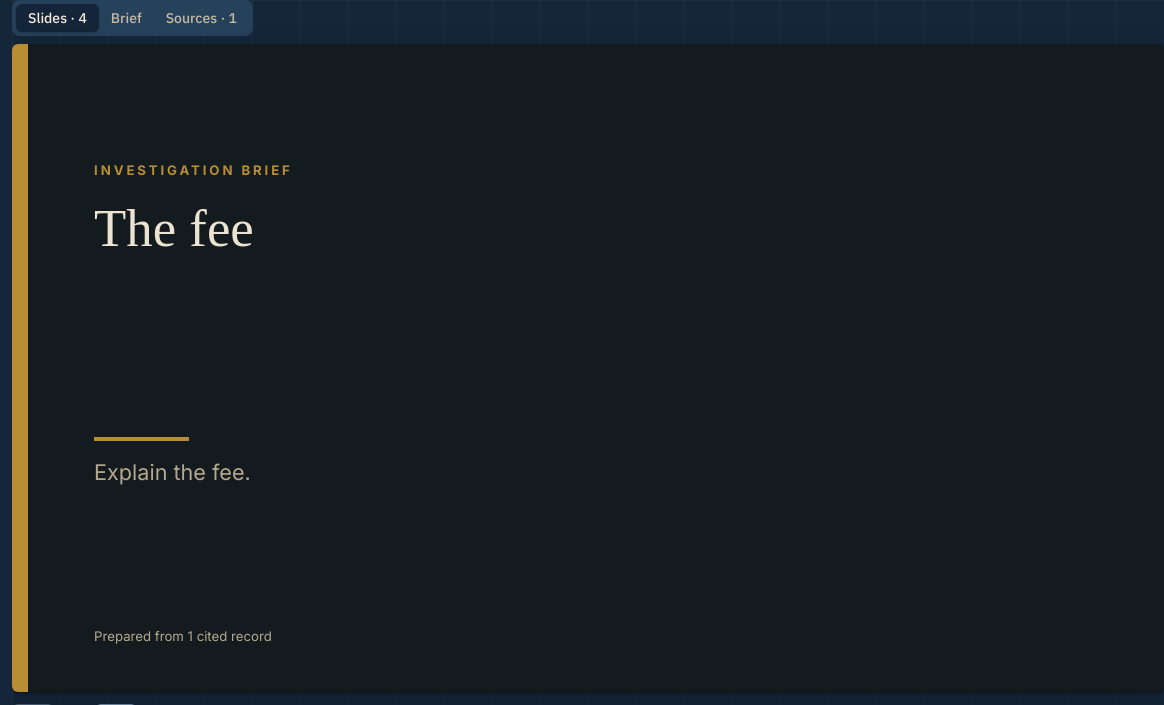
Test: DraftPreview › renders the brief with the takeaway, every paragraph, citations, and open questions
What coordinates should you click on to do the following:
click the tab "Brief"
I would click on:
 (126, 18)
Its box is [99, 4, 154, 32].
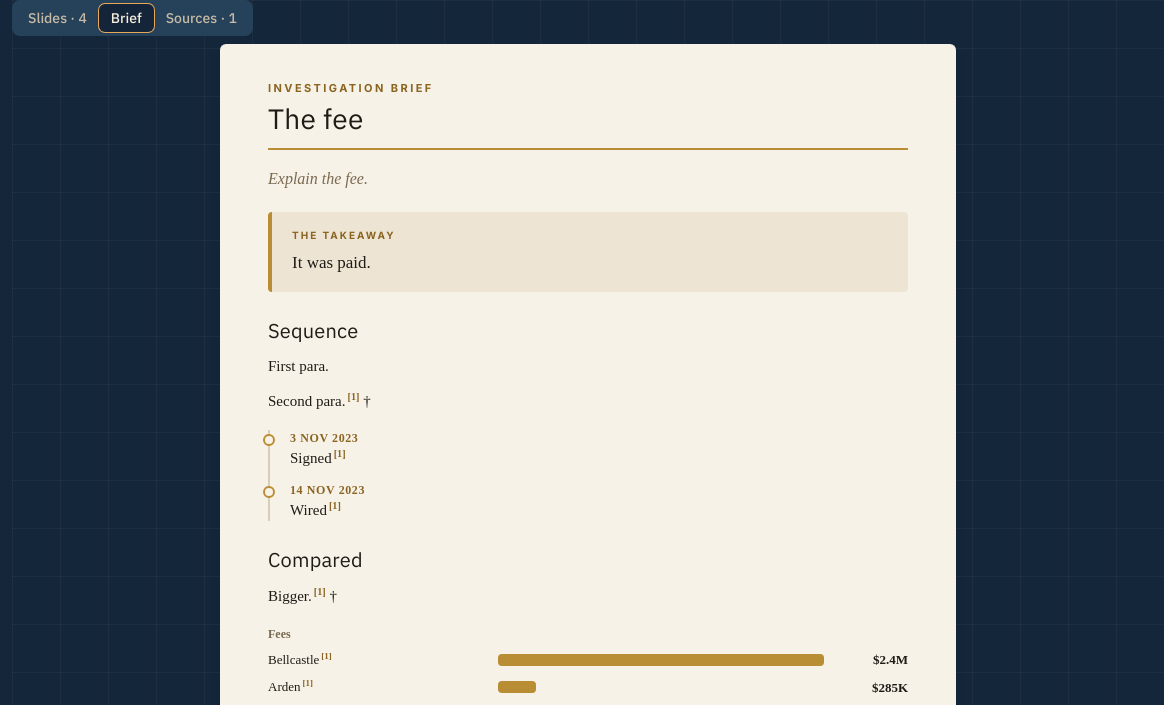
Check: the text "It was paid." is shown, box [292, 252, 371, 272]
Check: the text "First para." is shown, box [268, 358, 329, 374]
Check: the text "Second para. [1] †" is shown, box [268, 388, 371, 409]
